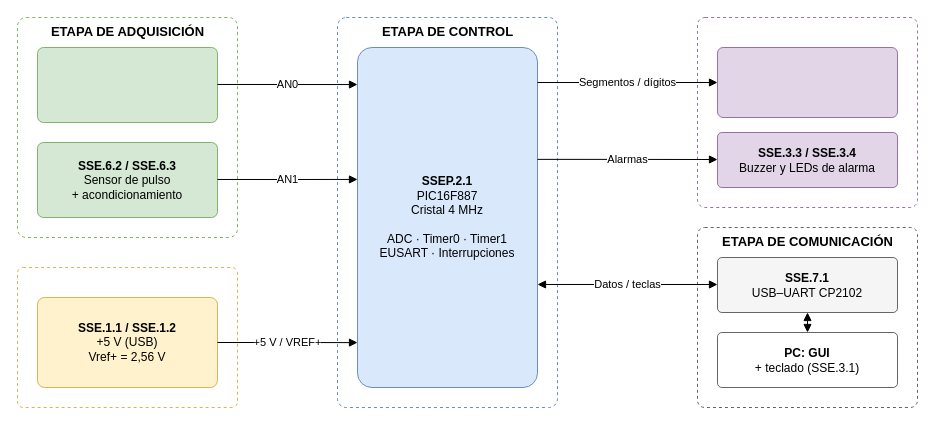
The diagram is 935 pixels wide and 425 high, and some of its shapes have lost their labels. Here are the shapes that lost their labels. From the top down, the box of each, then its label:
(36, 46, 218, 122): SSE.6.1 Sensor de temperatura LM35
(716, 46, 898, 118): SSE.3.2 + SSE.5.1 Display 7 seg. x4 con drivers
(696, 16, 918, 208): INTERFAZ DE USUARIO
(16, 266, 238, 408): ETAPA DE ALIMENTACIÓN
